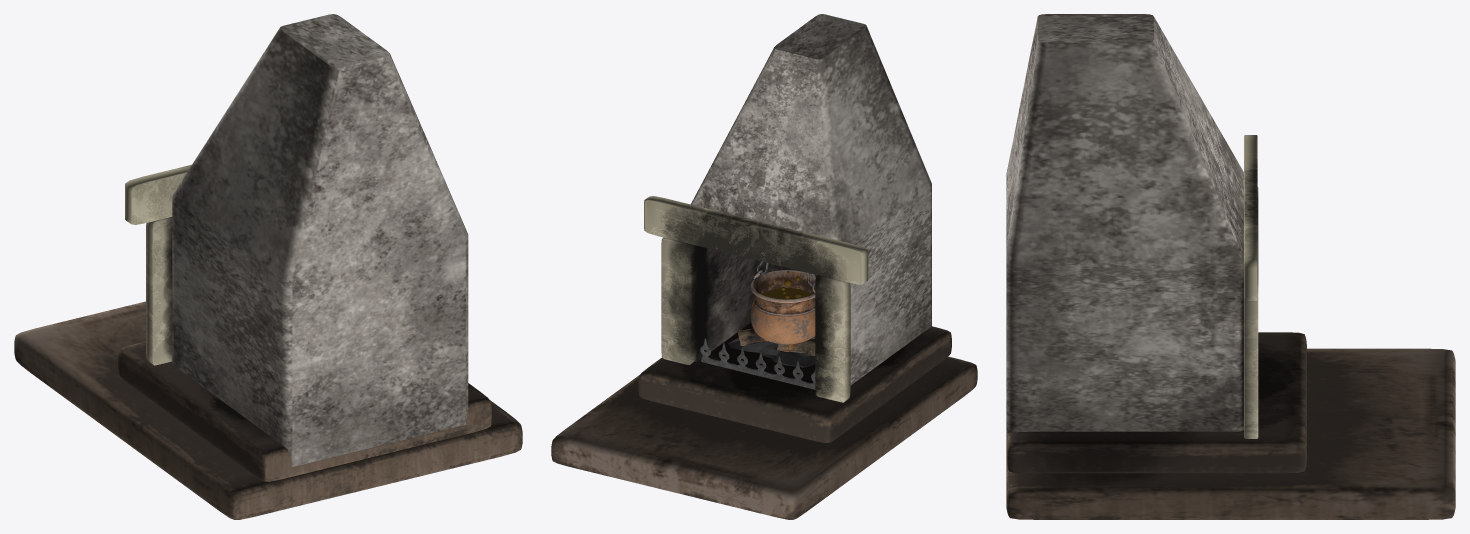
3 views of the same model, side by side, from view 1: azimuth 30°, elevation 25°; view 2: azimuth 150°, elevation 25°; view 3: azimuth 270°, elevation 25° (orthographic). The views are drawn at different scales.
Visible parts, largest first — view 1: obj1, obj5, obj4, obj3; view 2: obj1, obj5, obj3, obj4, obj8, obj6, obj7, obj2; view 3: obj1, obj5, obj3, obj4.
Part boxes in pixels (box(x1,y1,x2,y2)): obj1: box(172, 14, 468, 467); obj5: box(14, 301, 522, 519); obj4: box(146, 217, 172, 365); obj3: box(125, 164, 191, 224); obj1: box(691, 14, 931, 385); obj5: box(551, 322, 977, 519); obj3: box(644, 196, 868, 284); obj4: box(661, 237, 850, 402); obj8: box(750, 270, 815, 344); obj6: box(700, 338, 815, 389); obj7: box(727, 338, 815, 367); obj2: box(738, 328, 815, 355); obj1: box(1006, 14, 1243, 449); obj5: box(1006, 332, 1455, 519); obj3: box(1244, 135, 1257, 300); obj4: box(1244, 187, 1258, 438).
Size of the model in its own units: 21033 by 28843 by 27798.
Materials: 13 (13 with a texture image).
